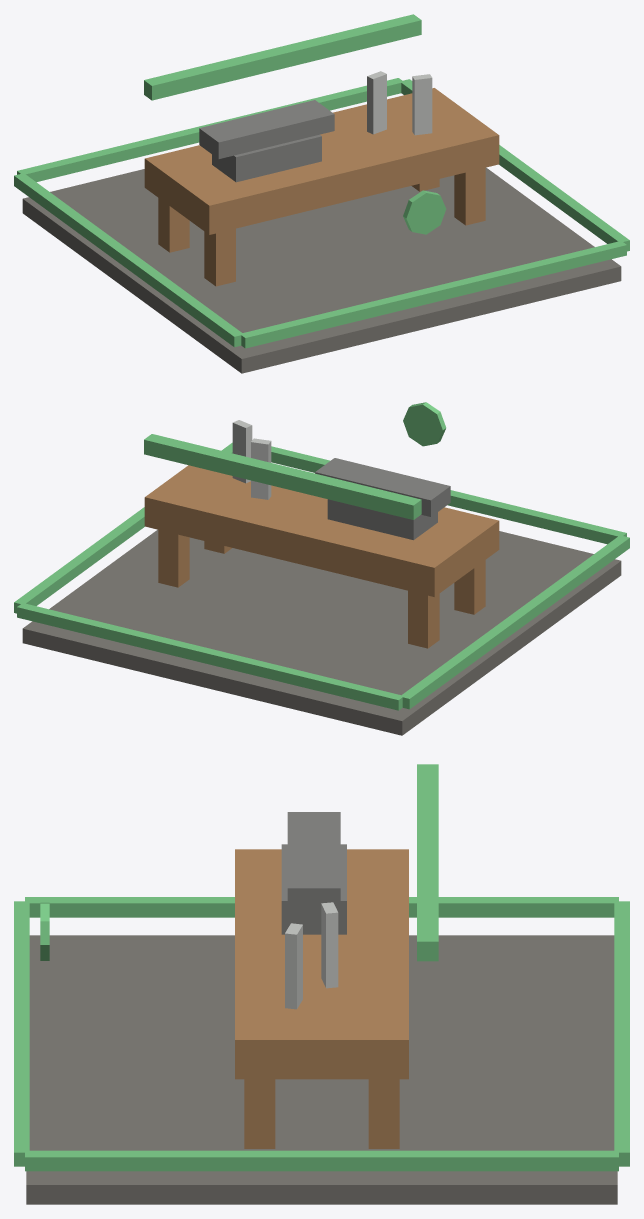
Rendered from t3_toolmaker.glb.
3 views of the same model, one above another, from view 1: azimuth 30°, elevation 25°; view 2: azimuth 150°, elevation 25°; view 3: azimuth 270°, elevation 25° (orthographic). The views are drawn at different scales.
Parts seen in each view (by area): view 1: FootprintBase, Workbench, TierFrontTrim, ToolRack, TierLeftTrim, AnvilTop, TierBackTrim, AnvilBody, TierRightTrim, BenchLeg, BenchLeg.002, TierEmblem (+3 smaller); view 2: FootprintBase, Workbench, TierBackTrim, ToolRack, TierLeftTrim, TierFrontTrim, AnvilTop, TierRightTrim, AnvilBody, BenchLeg.001, BenchLeg.003, TierEmblem (+3 smaller); view 3: FootprintBase, Workbench, TierRightTrim, TierLeftTrim, AnvilTop, ToolRack, TierBackTrim, TierFrontTrim, BenchLeg.002, BenchLeg.003, AnvilBody, ToolBlankA (+1 smaller).
Boxes of the visible parts, x1,y1,x2,y2 form: FootprintBase: (22,167,621,373); Workbench: (144,88,499,234); TierFrontTrim: (240,241,626,348); ToolRack: (144,14,421,100); TierLeftTrim: (14,173,242,347); AnvilTop: (199,100,334,158); TierBackTrim: (17,78,403,182); AnvilBody: (212,134,321,182); TierRightTrim: (401,79,629,251); BenchLeg: (204,228,235,286); BenchLeg.002: (454,167,485,225); TierEmblem: (403,190,446,234); FootprintBase: (22,529,621,735); Workbench: (144,465,499,596); TierBackTrim: (17,603,402,710); ToolRack: (144,434,421,519); TierLeftTrim: (400,535,629,709); TierFrontTrim: (271,446,626,544); AnvilTop: (315,458,450,516); TierRightTrim: (14,442,232,613); AnvilBody: (327,499,437,540); BenchLeg.001: (408,590,439,648); BenchLeg.003: (158,530,189,587); TierEmblem: (403,402,446,446); FootprintBase: (26,935,617,1204); Workbench: (235,849,408,1079); TierRightTrim: (25,1150,618,1171); TierLeftTrim: (25,897,618,917); AnvilTop: (287,812,340,910); ToolRack: (417,764,438,961); TierBackTrim: (614,901,629,1166); TierFrontTrim: (14,901,29,1166); BenchLeg.002: (244,1079,275,1148); BenchLeg.003: (368,1079,399,1148); AnvilBody: (281,844,346,934); ToolBlankA: (321,902,338,988).
Size of the model in its own units: 3.96 by 1.61 by 3.96.
